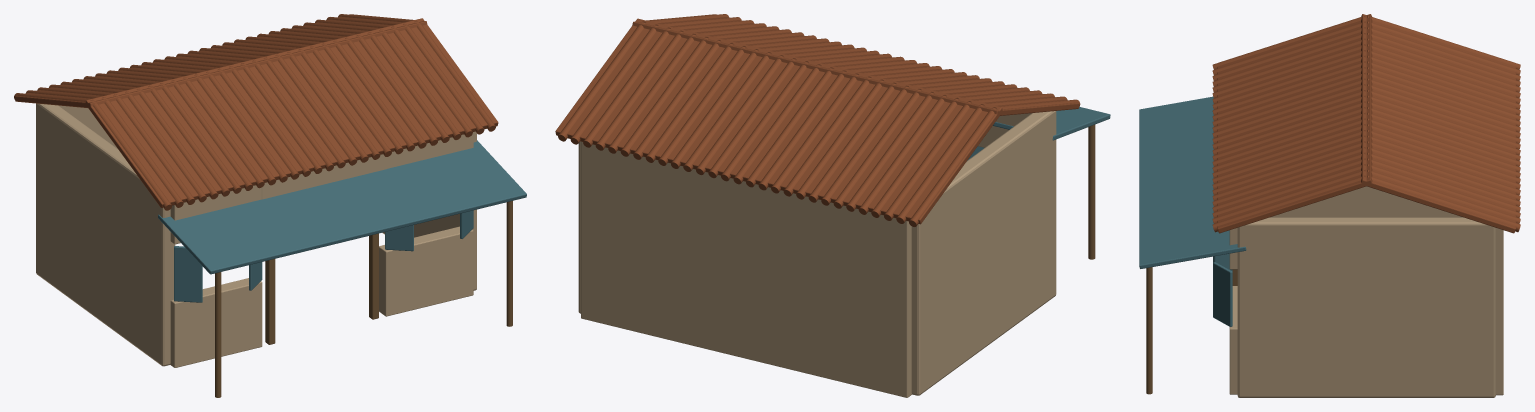
File: VillageStore.fbx
The picture shows the model from 3 angles, left to right: view 1: azimuth 30°, elevation 25°; view 2: azimuth 150°, elevation 25°; view 3: azimuth 270°, elevation 25°; orthographic projection. The views are drawn at different scales.
Parts seen in each view (by area): view 1: VillageStore; view 2: VillageStore; view 3: VillageStore.
Part boxes in pixels (x1,y1,x2,y2): VillageStore: (14, 14, 526, 397); VillageStore: (555, 14, 1110, 397); VillageStore: (1139, 14, 1520, 397).
Bounding box in the file's own units: 670 × 650 × 422.
